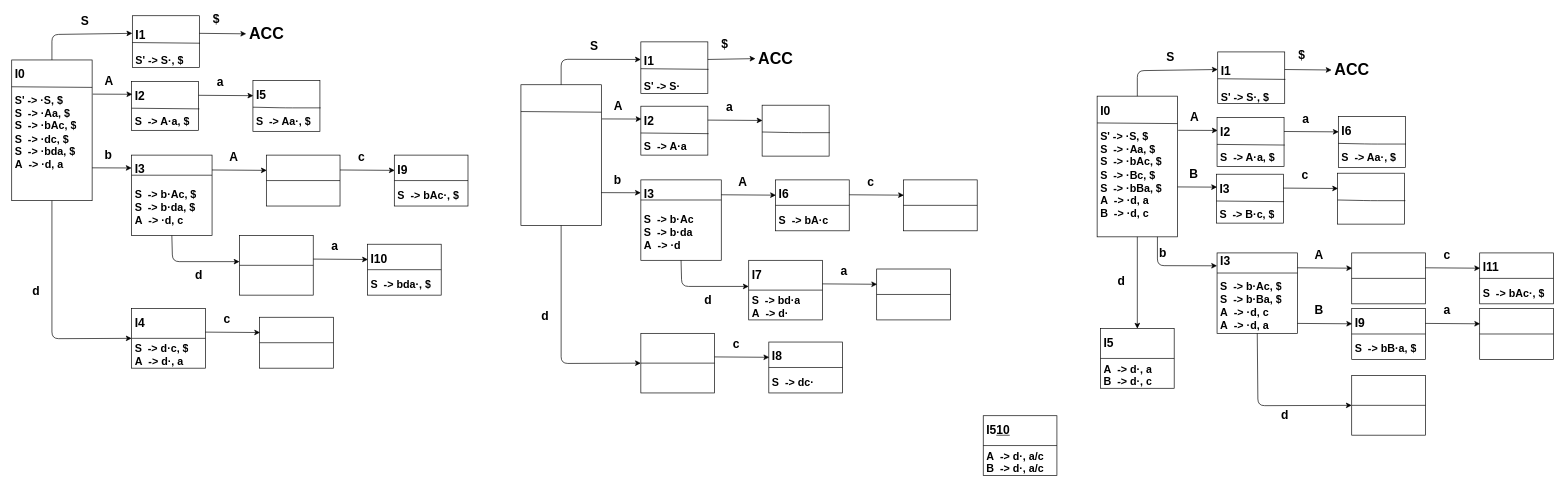
The diagram is 1566 pixels wide and 487 high, and some of its shapes have lost their labels. Each missing label, with the centre of its shape:
I0 S' -> ·S S -> ·Aa S -> ·bAc S -> ·dc S -> ·bda A -> ·d: the point at 560,154
I10 A -> d ·, c B -> d ·, a: the point at 1388,405
I10 S -> bd a ·: the point at 913,294
I12 S -> bB a · , $: the point at 1516,333
I4 S -> d ·c A -> d ·: the point at 677,363
I5 S -> Aa ·: the point at 795,130
I6 S -> bA ·c, $: the point at 303,180
I7 S -> Bc ·, $: the point at 1371,198
I7 S -> bd ·a, $ A -> d ·, c: the point at 276,265
I8 S -> bA ·c, $: the point at 1388,278
I8 S -> dc · , $: the point at 296,342
I9 S -> bA c ·: the point at 940,205
